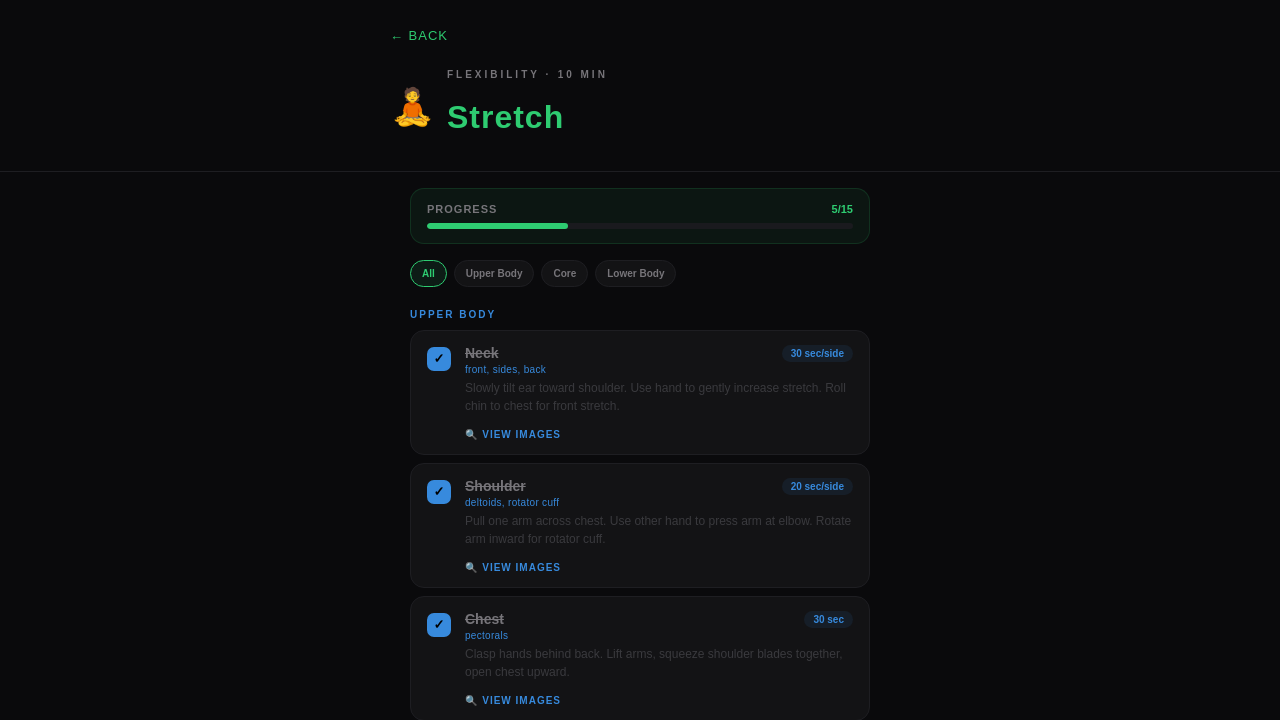
Test: StretchScreen logging › filters visible stretches by body region without affecting checked state
Check: the text "Neck" is shown, box [465, 345, 498, 361]
Click the button "Lower Body" at (636, 273), box [595, 260, 676, 287]
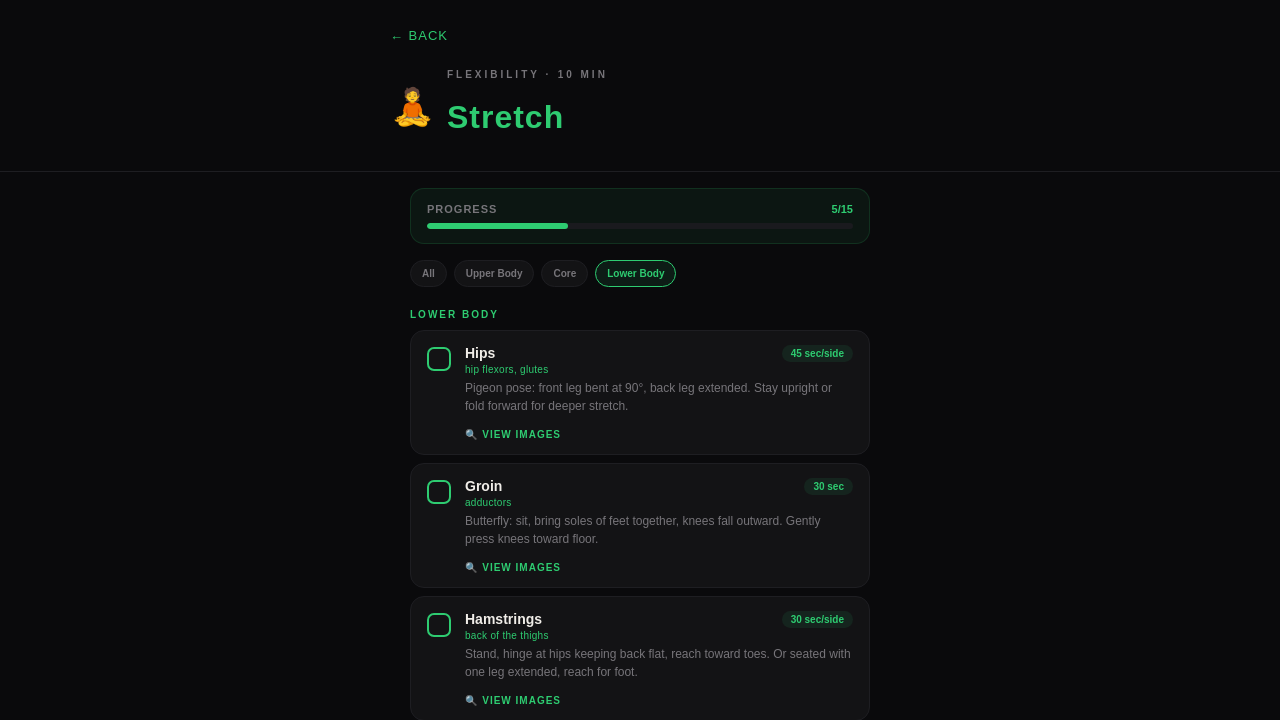
Check: the text "Hips" is shown, box [465, 345, 495, 361]
Check: the button "Neck" is gone
Click the button "All" at (428, 273), box [410, 260, 447, 287]
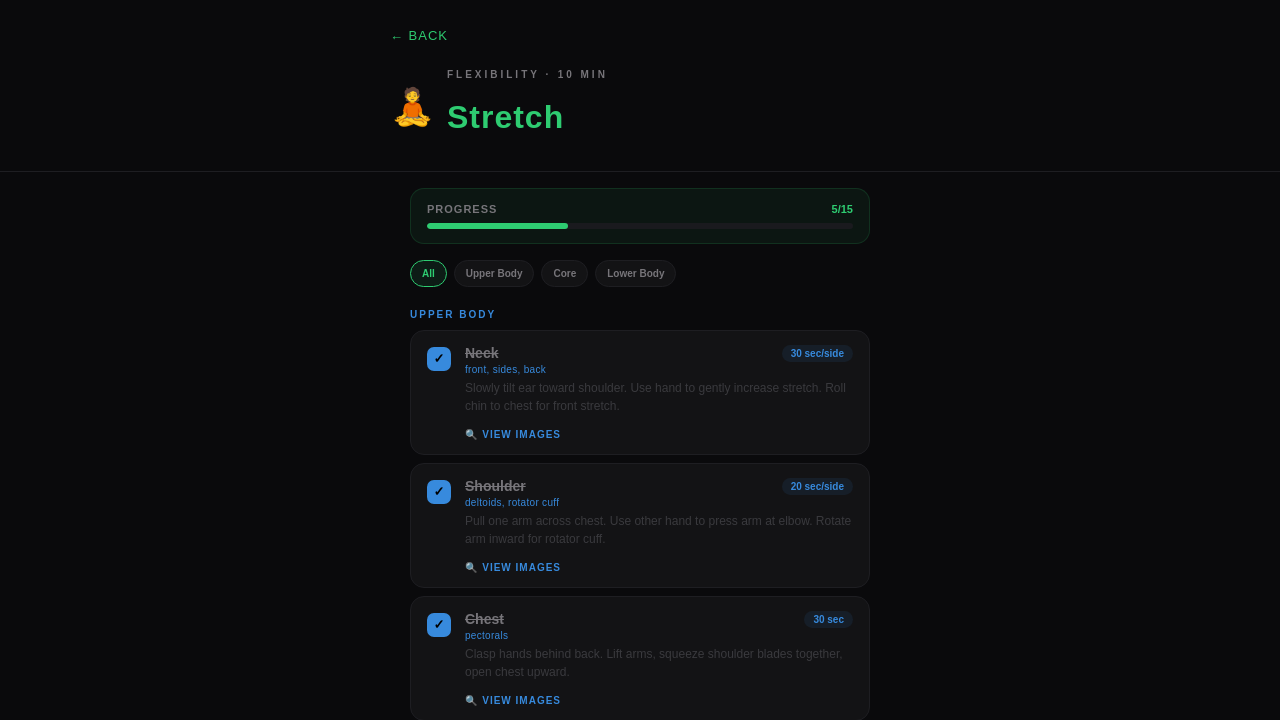
Check: the text "Neck" is shown, box [465, 345, 498, 361]
